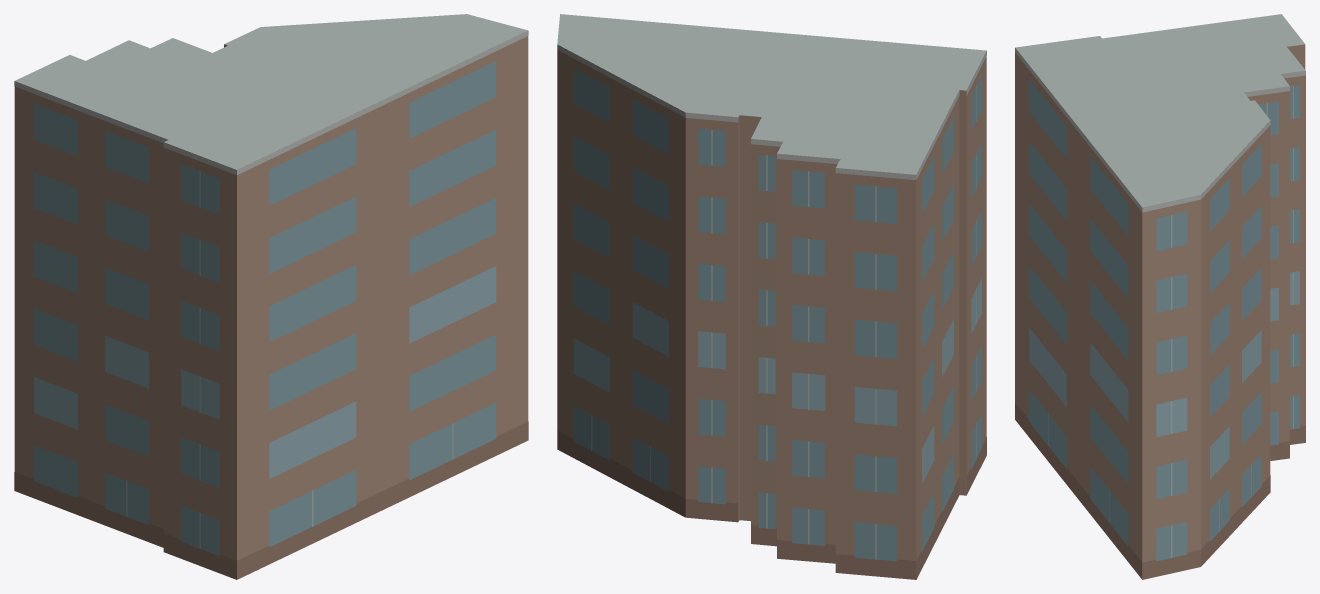
File: survey-upis-32997942.glb
3 renders of one model, left to right at view 1: azimuth 30°, elevation 25°; view 2: azimuth 150°, elevation 25°; view 3: azimuth 270°, elevation 25°, orthographic. The views are drawn at different scales.
Parts seen in each view (by area): view 1: survey-upis-32997942.tmp; view 2: survey-upis-32997942.tmp; view 3: survey-upis-32997942.tmp.
Part boxes in pixels (x1,y1,x2,y2): survey-upis-32997942.tmp: [14, 14, 528, 579]; survey-upis-32997942.tmp: [557, 14, 986, 579]; survey-upis-32997942.tmp: [1015, 14, 1305, 579].
Bounding box in the file's own units: 20.89 × 18.7 × 13.25.
